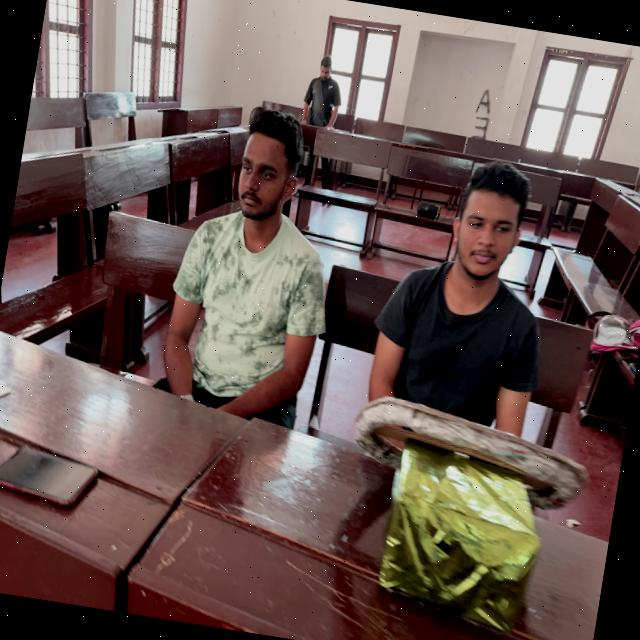Helmet: (154, 214, 333, 438), (361, 263, 554, 465)
